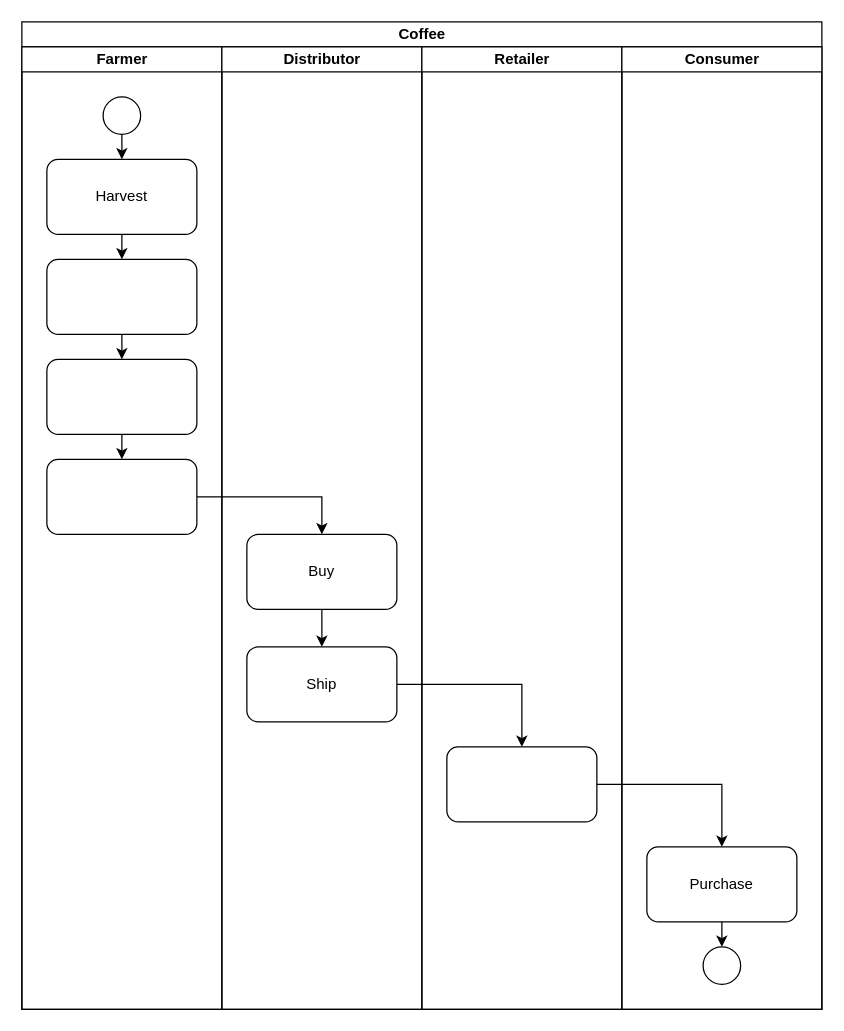
The diagram is 844 pixels wide and 1031 high, and some of its shapes have lost their labels. Here are the shapes that lost their labels. From the top down, the centre of each, then its label:
(121,296): Process
(121,396): Pack
(121,496): ForSale
(521,784): Receive
